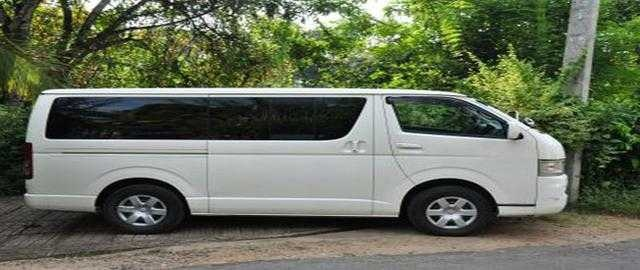van: (22, 88, 571, 238)
